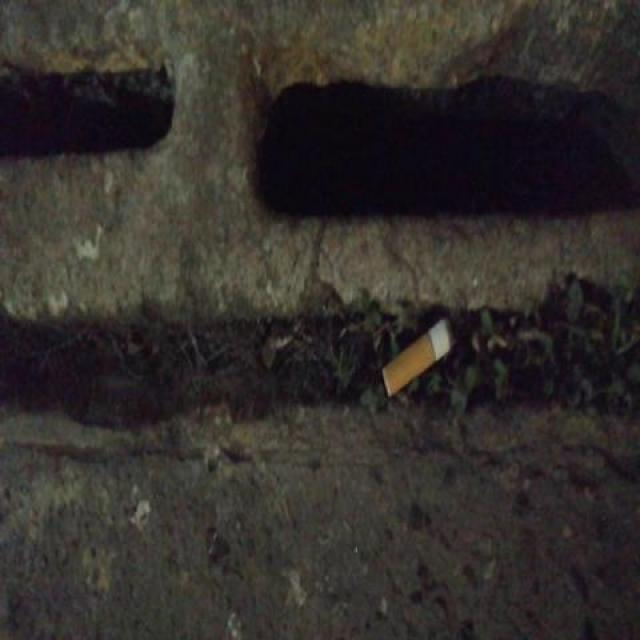non-organic waste: (378, 314, 458, 403)
